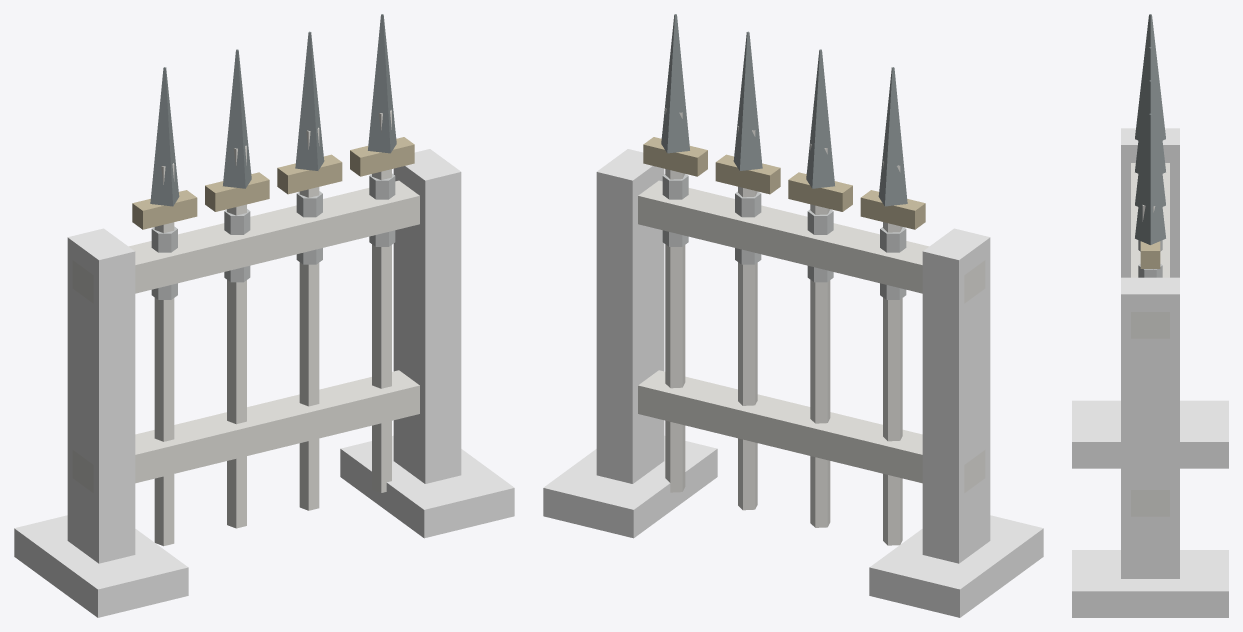
Rendered from rack.glb.
The picture shows the model from 3 angles, left to right: view 1: azimuth 30°, elevation 25°; view 2: azimuth 150°, elevation 25°; view 3: azimuth 270°, elevation 25°; orthographic projection. The views are drawn at different scales.
Parts seen in each view (by area): view 1: rack; view 2: rack; view 3: rack.
Part boxes in pixels (x1,y1,x2,y2): rack: (14,14,514,617); rack: (543,14,1043,617); rack: (1072,14,1228,617).
Size of the model in its own units: 2.88 by 3.25 by 1.
